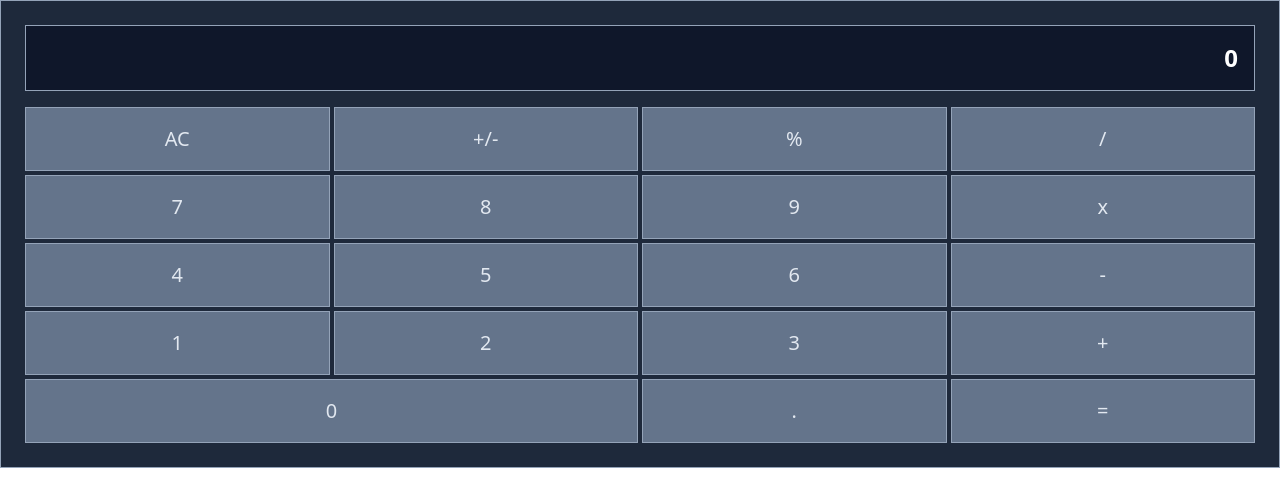
Scenario: App component › if AC button clears the display
Click the button "6". click: coordinates (794, 275)
box: [642,243,946,307]
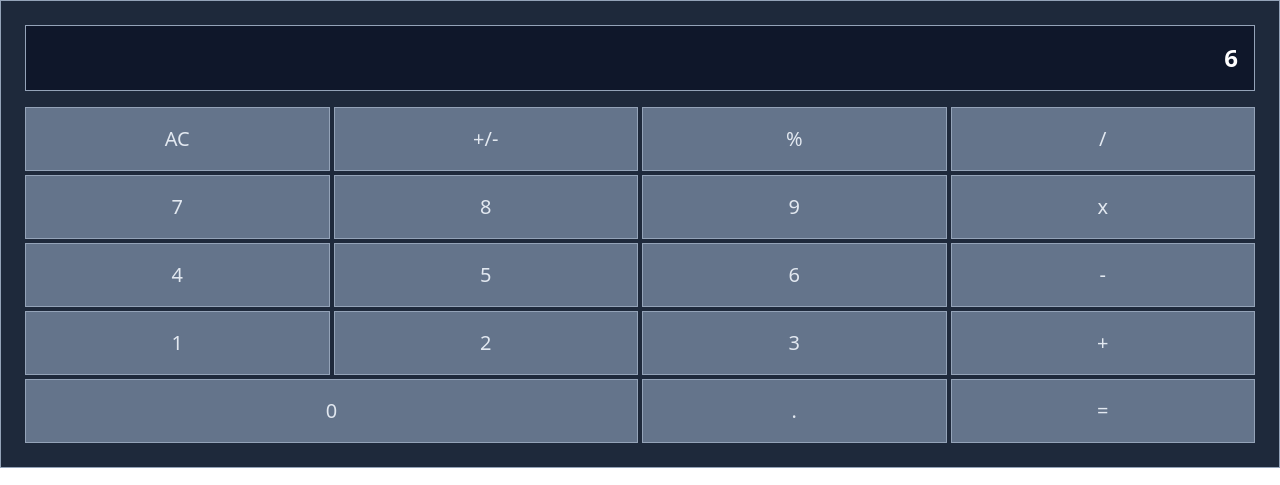
Click the button "+". click: coordinates (1103, 343)
box: [950,311,1255,375]
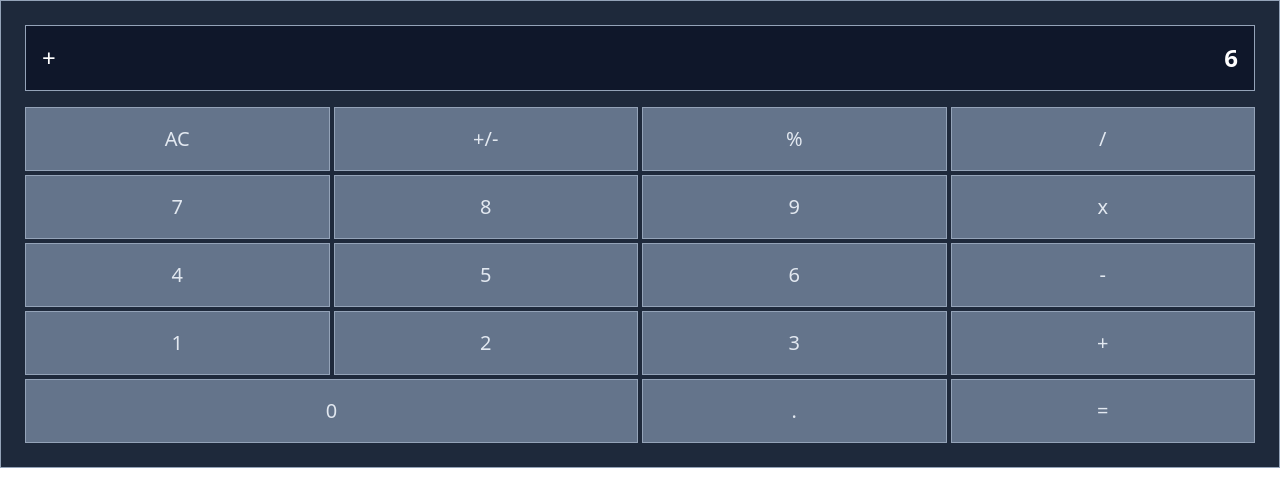
Click the button "AC". click: coordinates (177, 139)
box: [25,107,330,171]
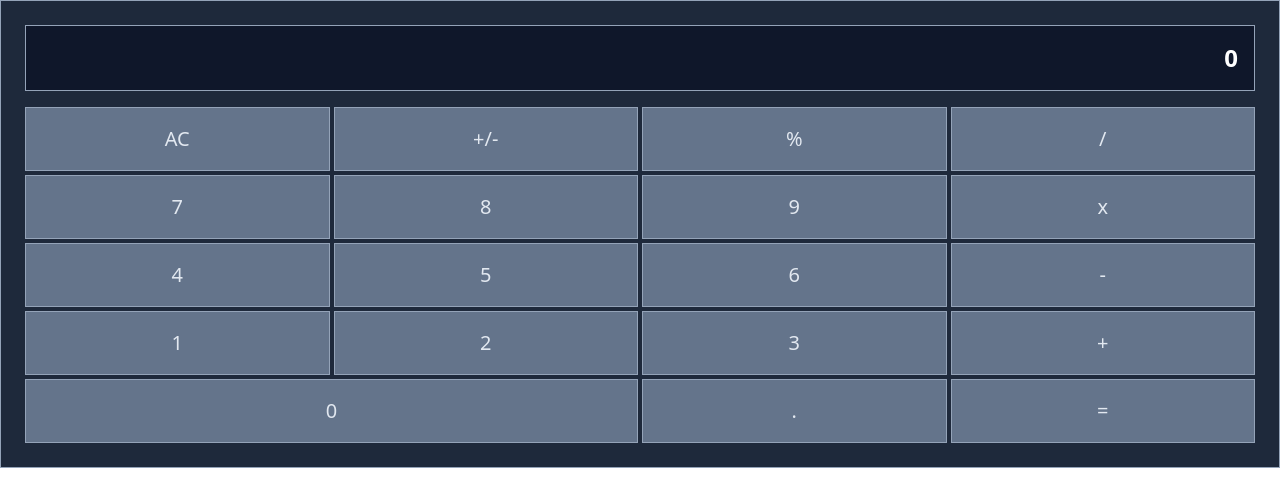
Expected: the button "6" is shown, [642,243,946,307]
Expected: the text with class "display__value" reads "0", [1224,41,1238,74]
